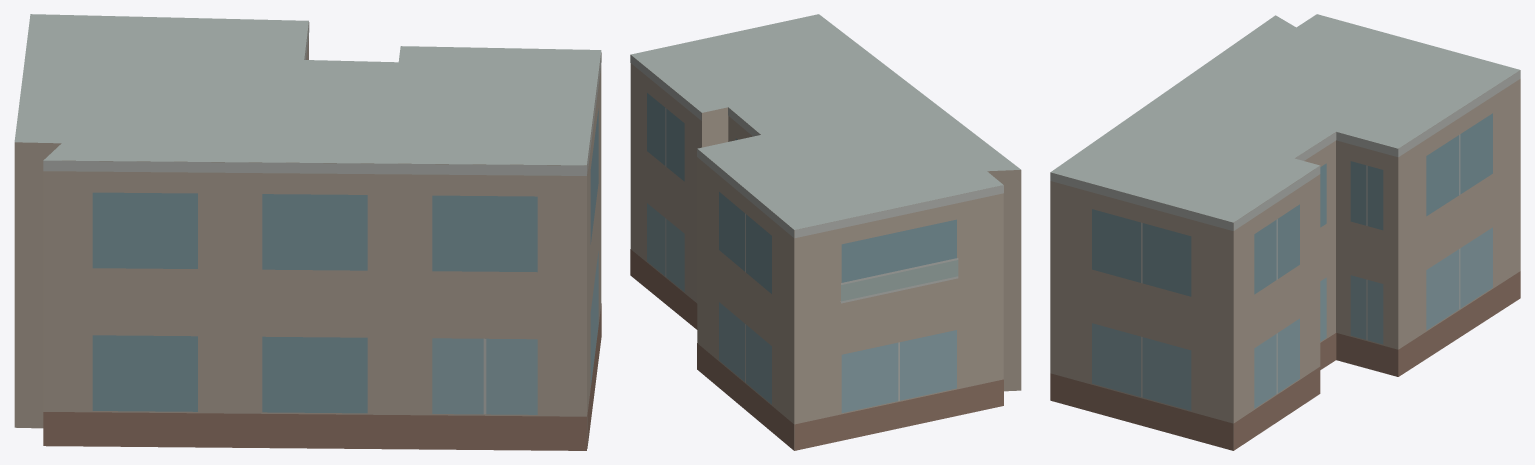
File: survey-upis-32912154.glb
3 renders of one model, left to right at view 1: azimuth 30°, elevation 25°; view 2: azimuth 150°, elevation 25°; view 3: azimuth 270°, elevation 25°, orthographic. The views are drawn at different scales.
Visible parts, largest first — view 1: survey-upis-32912154.tmp; view 2: survey-upis-32912154.tmp; view 3: survey-upis-32912154.tmp.
Boxes of the visible parts, left/top/right/bottom form: survey-upis-32912154.tmp: left=14, top=14, right=601, bottom=450; survey-upis-32912154.tmp: left=630, top=14, right=1021, bottom=450; survey-upis-32912154.tmp: left=1050, top=14, right=1520, bottom=450.
Size of the model in its own units: 12.75 by 6.5 by 12.15.
